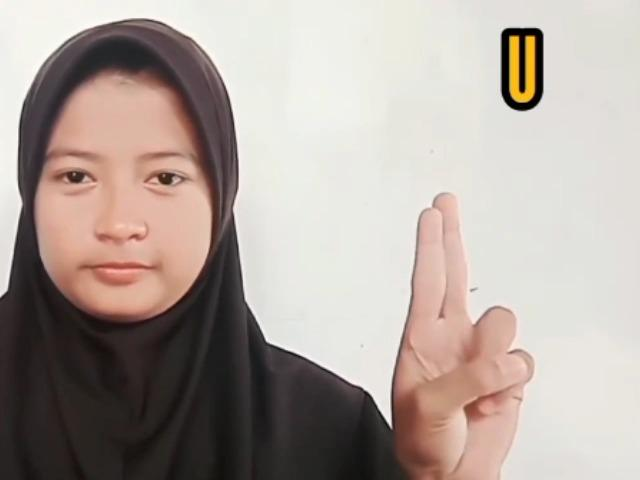U: (390, 184, 538, 480)
